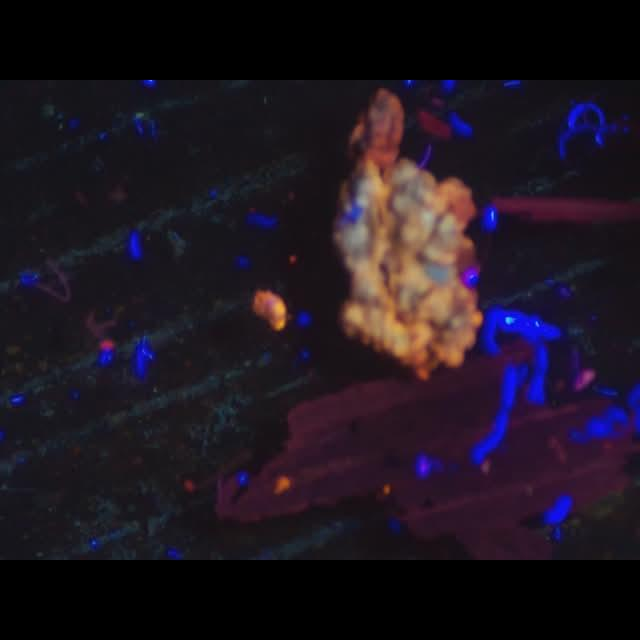Fragment: (335, 117, 483, 377), (252, 289, 288, 331)
